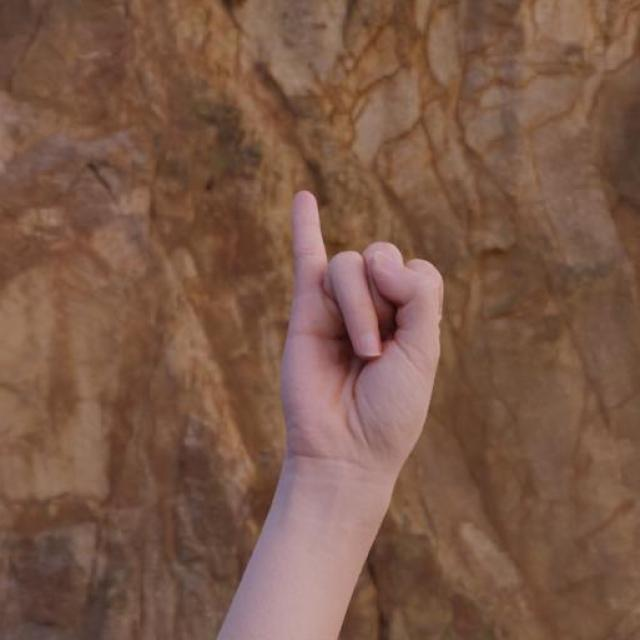I: (189, 142, 498, 532)
